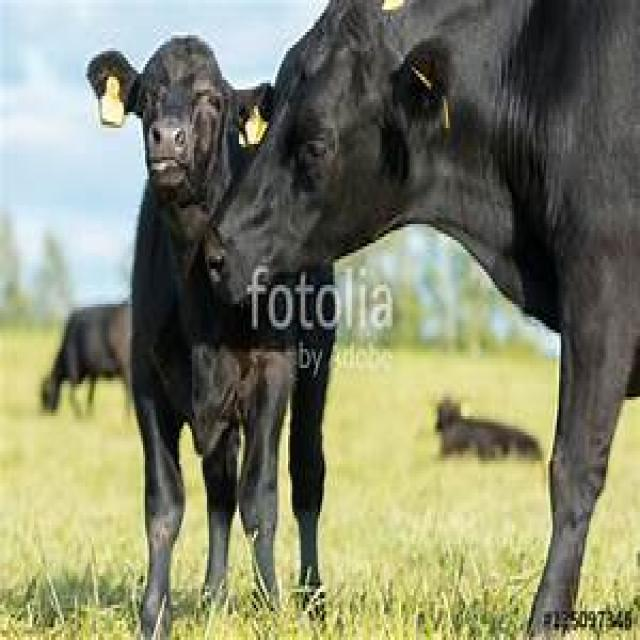animal: (202, 0, 640, 637), (85, 32, 337, 637), (39, 298, 132, 416)
